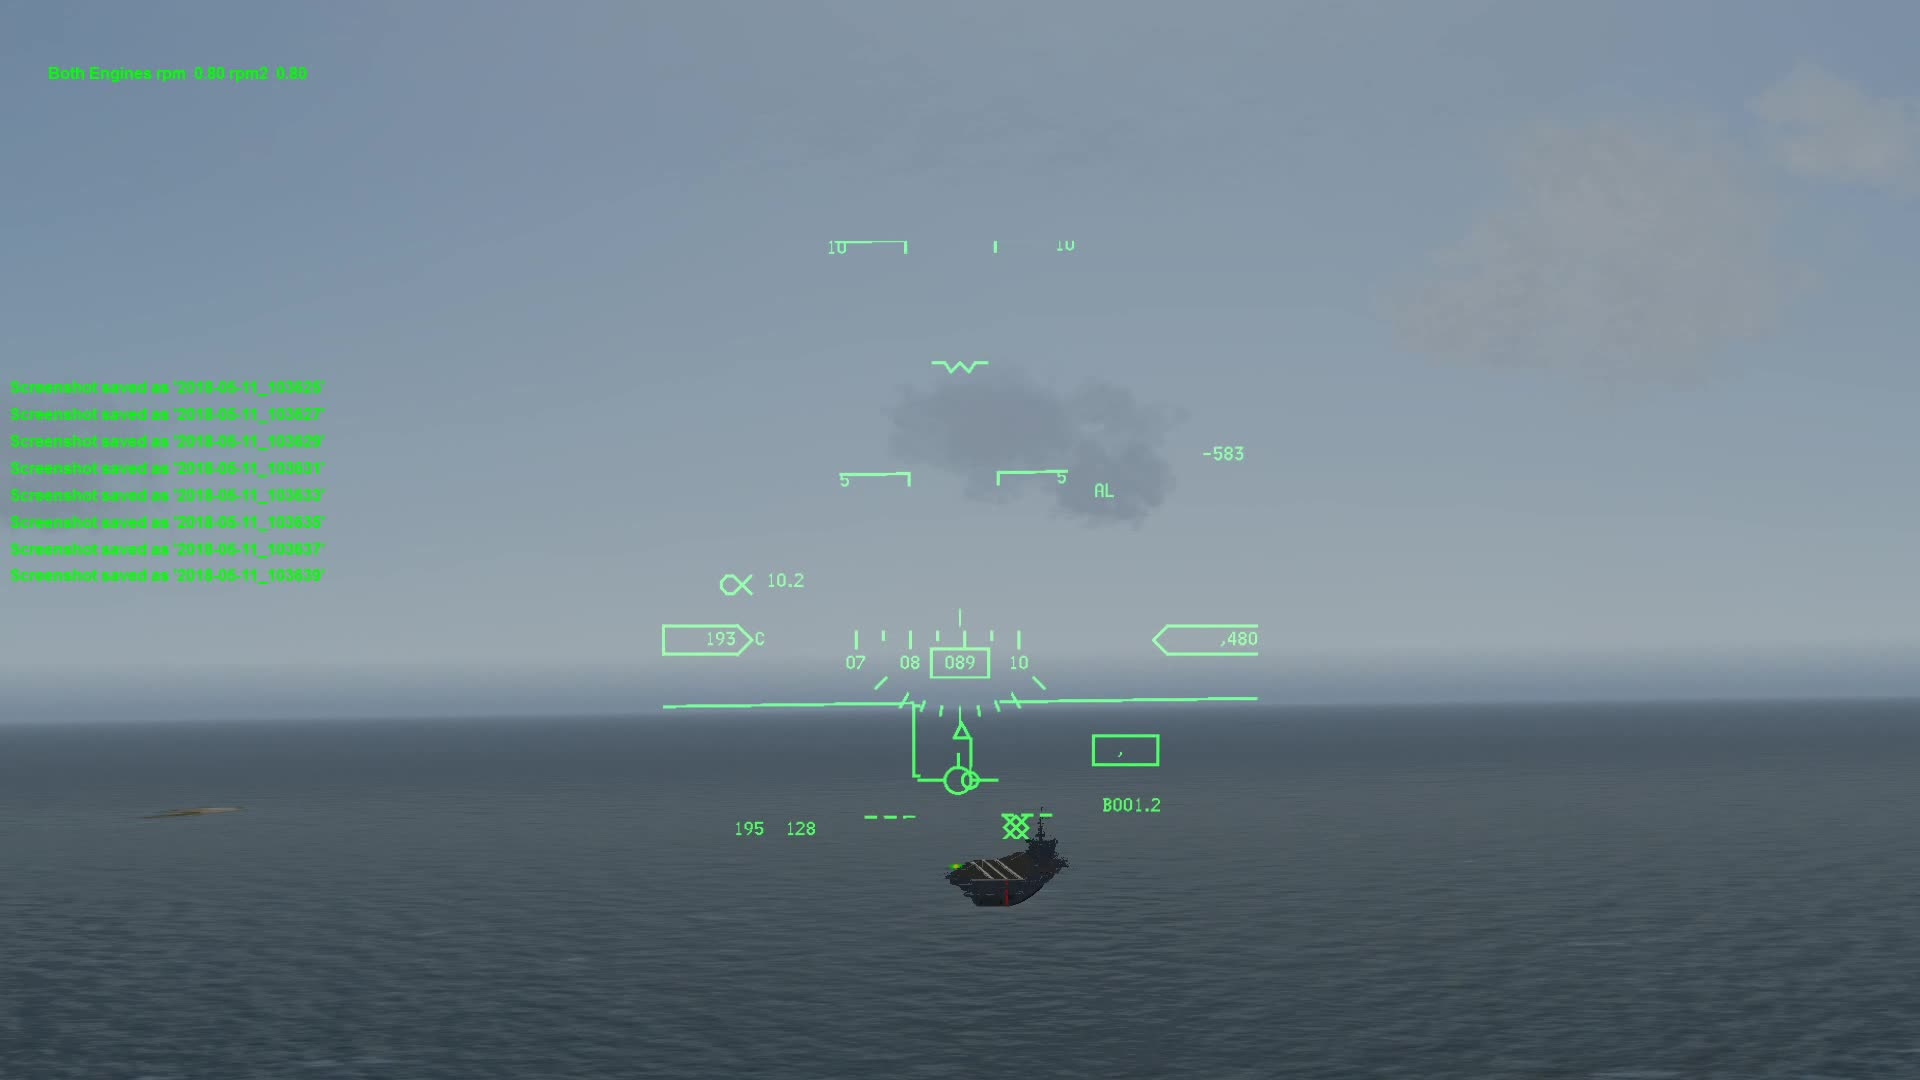speed vector: (922, 752, 998, 798)
